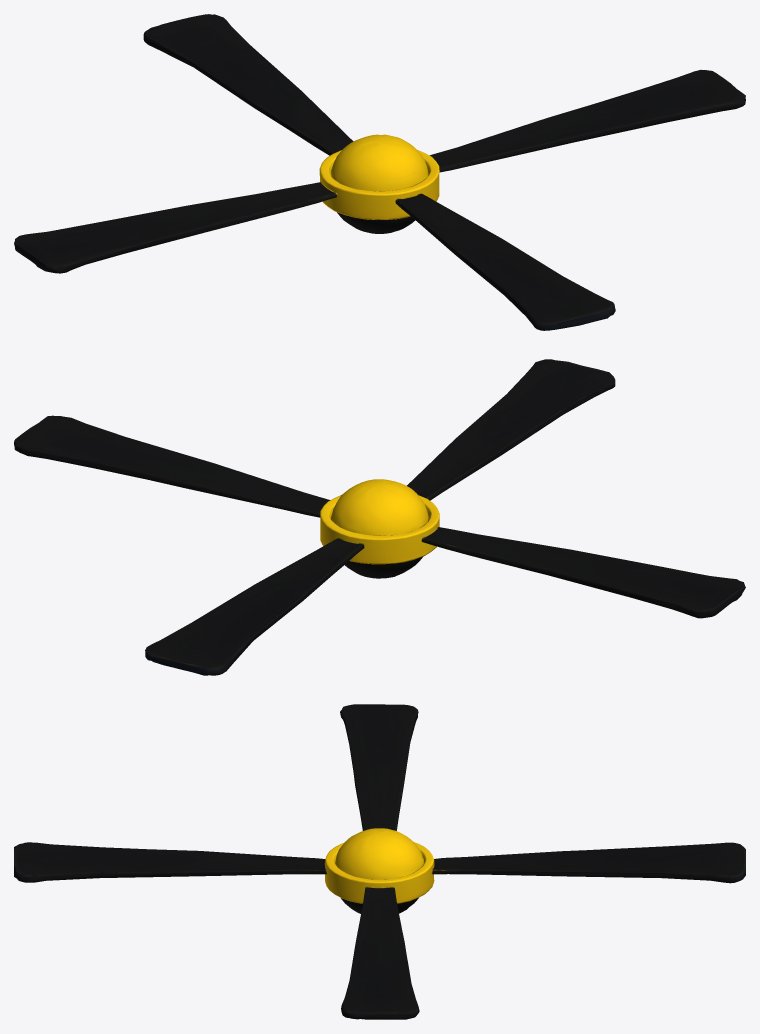
File: Meshy_AI_Four_Blade_Rotor_0714083143_texture.glb
3 renders of one model, top to bottom at view 1: azimuth 30°, elevation 25°; view 2: azimuth 150°, elevation 25°; view 3: azimuth 270°, elevation 25°, orthographic. The views are drawn at different scales.
Bounding box in the file's own units: 0.998 × 0.1191 × 1.
Materials: 1 (1 with a texture image).
